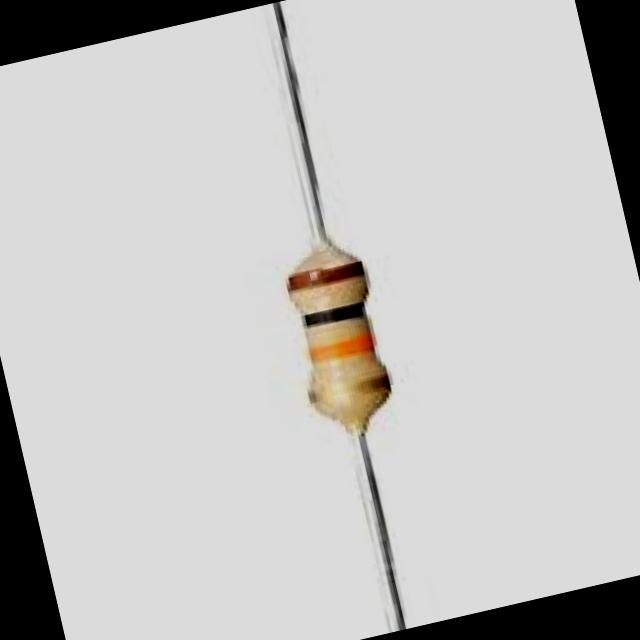Resistor: (287, 229, 391, 436)
black: (303, 300, 370, 326)
brown: (288, 260, 366, 291)
gold: (305, 376, 394, 405)
orange: (307, 333, 377, 363)
